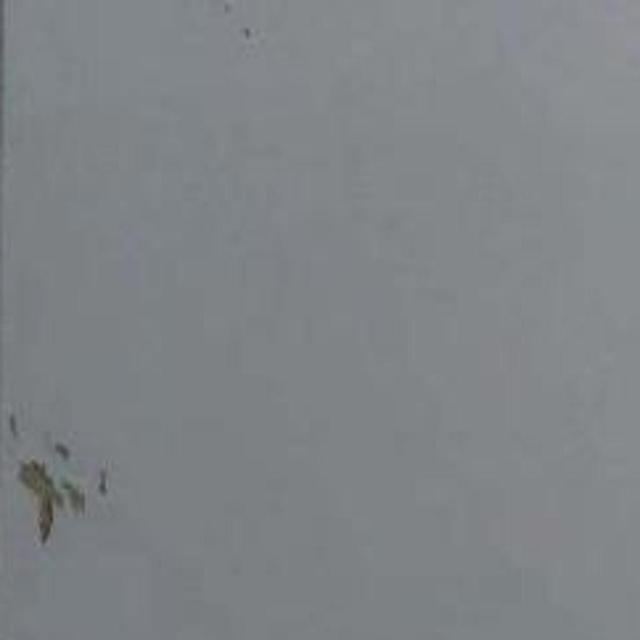surface_peeling: (18, 439, 113, 546)
